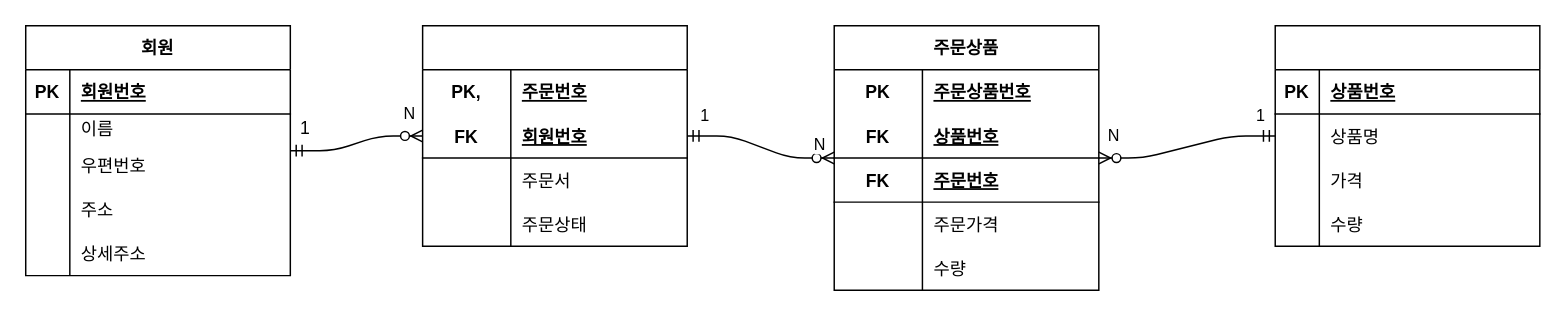
This 1566x316 diagram has some shape labels left out. Here are the shapes that lost their labels. From the top down, the box of each, then its label:
(421, 24, 687, 246): 주문
(1274, 24, 1540, 246): 상품
